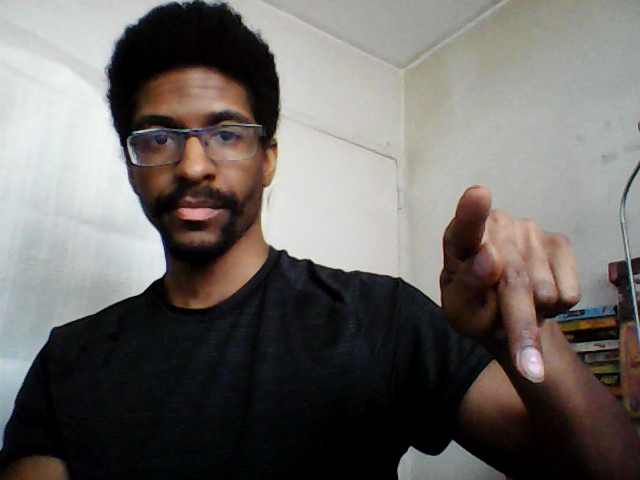p: (433, 180, 585, 387)
